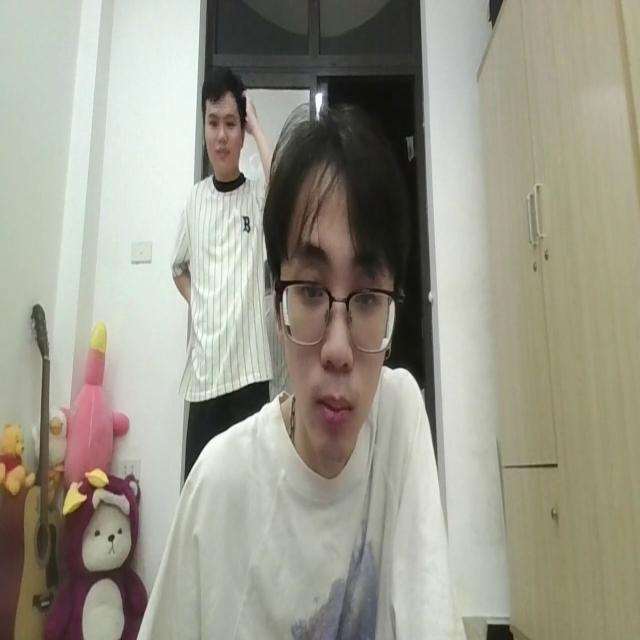extra_person: (166, 58, 281, 438)
student: (148, 99, 463, 640)
